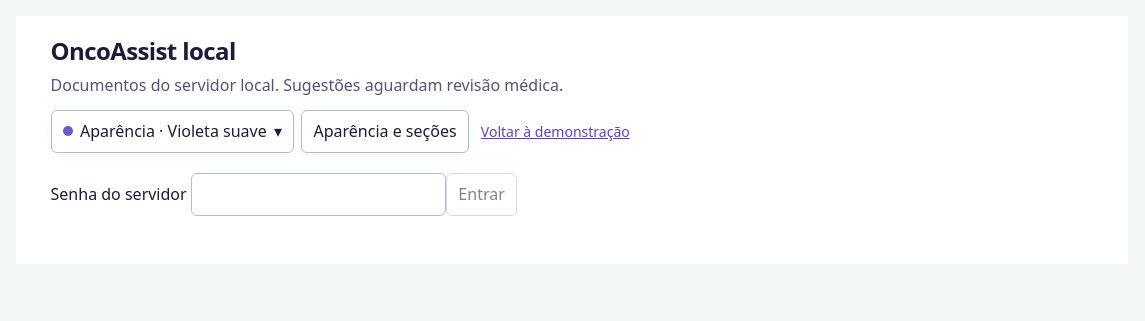
Test: modo local explícito OncoAssist › login recusado não carrega agenda nem retém senha no campo
Type "senha-sintetica-para-teste" into the password field labelled "Senha do servidor" at (318, 194), box [191,173,446,216]
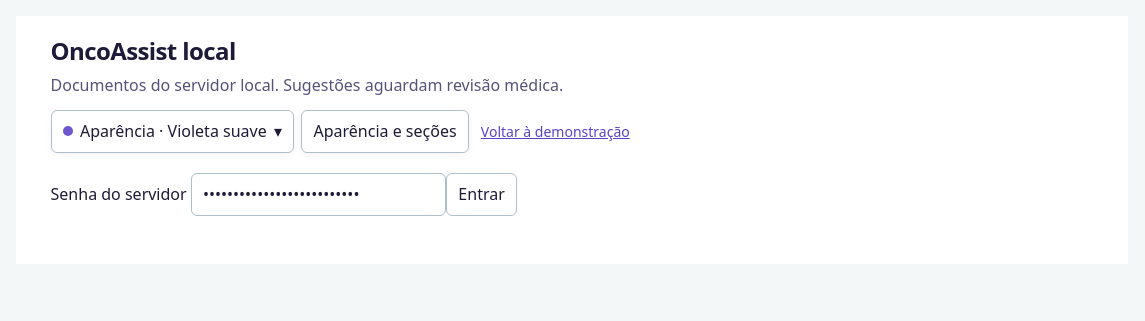
Click the button "Entrar" at (482, 194), box [446,173,517,216]
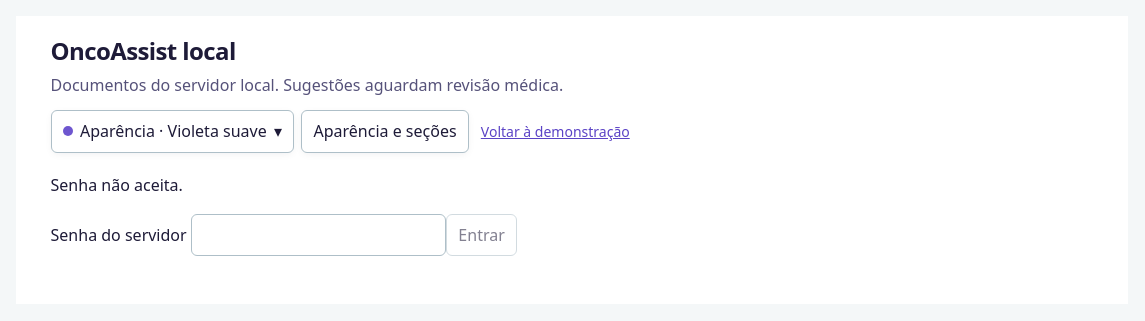
Expected: the password field labelled "Senha do servidor" is empty, [191,214,446,256]
Result: the text "Senha não aceita." is shown at [50,174,183,196]
